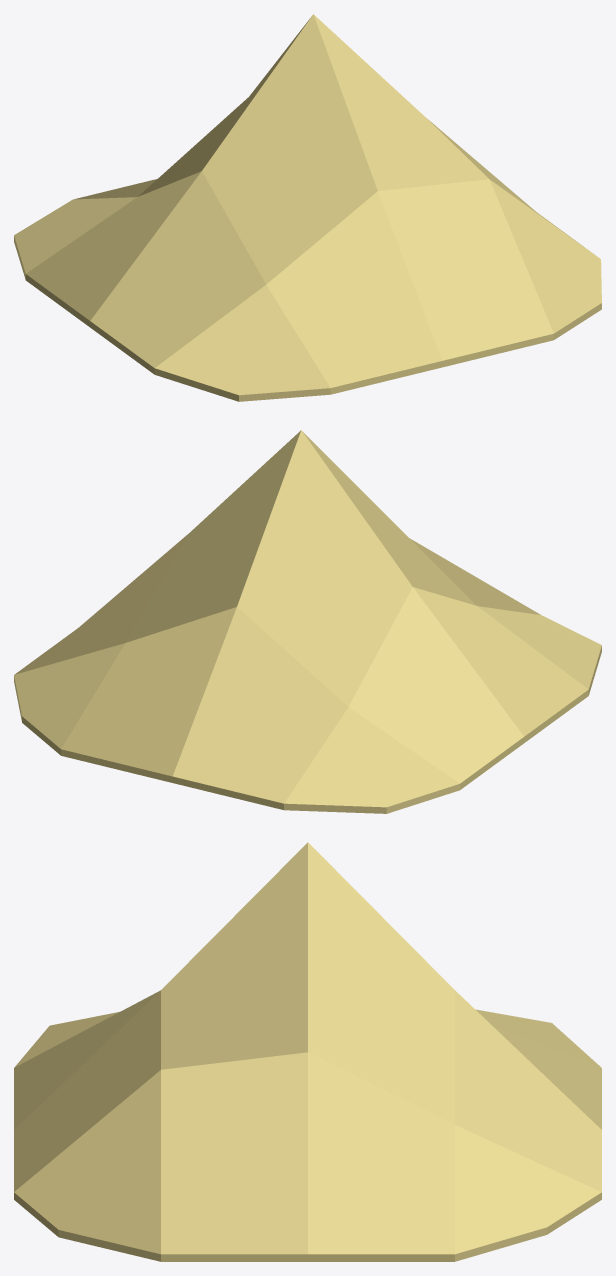
File: single_moutain_sand.fbx
3 renders of one model, top to bottom at view 1: azimuth 30°, elevation 25°; view 2: azimuth 150°, elevation 25°; view 3: azimuth 270°, elevation 25°, orthographic. The views are drawn at different scales.
Visible parts, largest first — view 1: Plane; view 2: Plane; view 3: Plane.
Part boxes in pixels (x1=…): Plane: x1=14, y1=14, x2=601, y2=401; Plane: x1=14, y1=430, x2=601, y2=813; Plane: x1=14, y1=842, x2=601, y2=1261.
Bounding box in the file's own units: 800 × 444 × 800.
